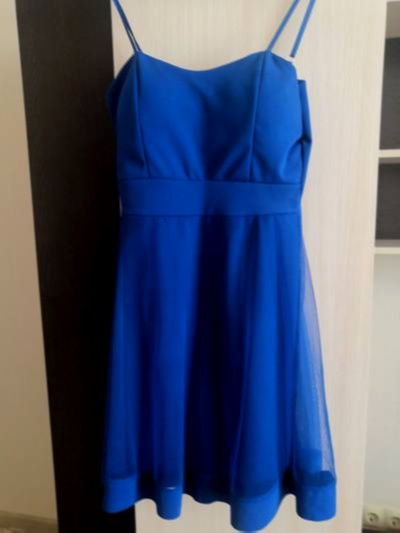Dress: (59, 35, 350, 523)
